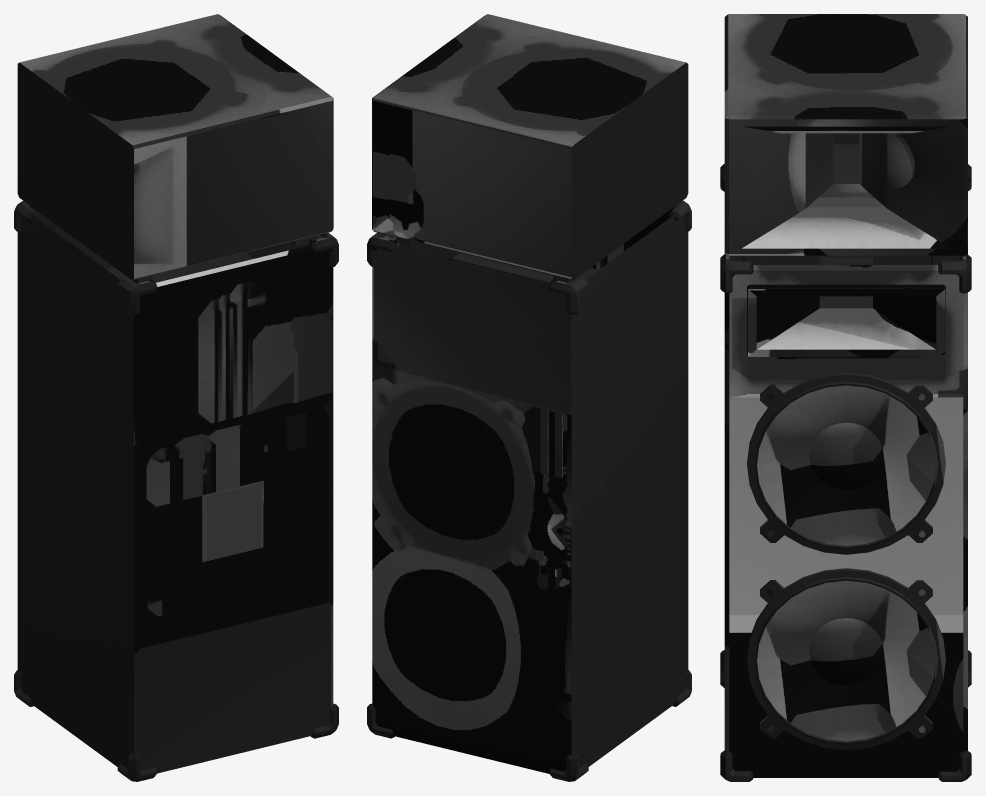
The model's file is Speak2.glb.
3 views of the same model, side by side, from view 1: azimuth 30°, elevation 25°; view 2: azimuth 150°, elevation 25°; view 3: azimuth 270°, elevation 25° (orthographic). The views are drawn at different scales.
Visible parts, largest first — view 1: Assembly-2; view 2: Assembly-2; view 3: Assembly-2.
Boxes of the visible parts, box(x1,y1,x2,y2) form: Assembly-2: box(14, 14, 338, 781); Assembly-2: box(367, 14, 691, 781); Assembly-2: box(720, 14, 971, 781).
Bounding box in the file's own units: 3.42 × 9.72 × 3.32.
Materials: 1 (1 with a texture image).
